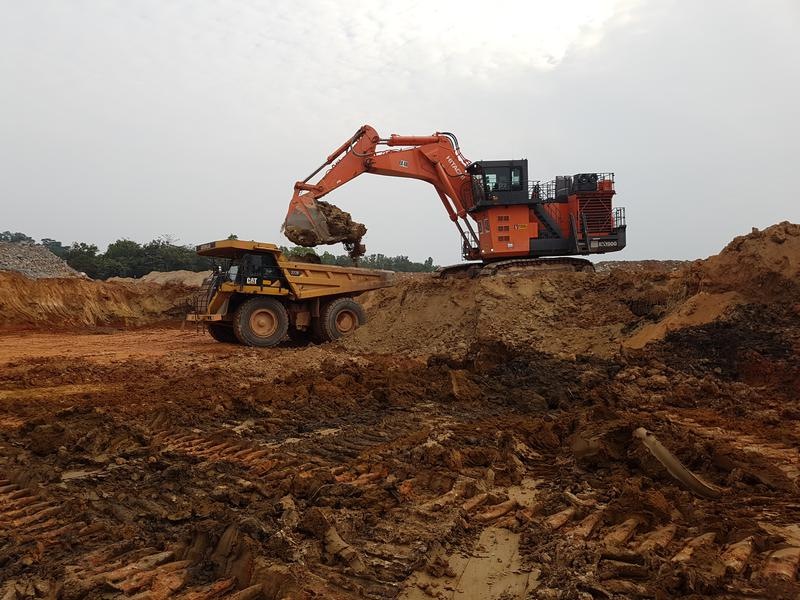shovel: (277, 119, 645, 259)
